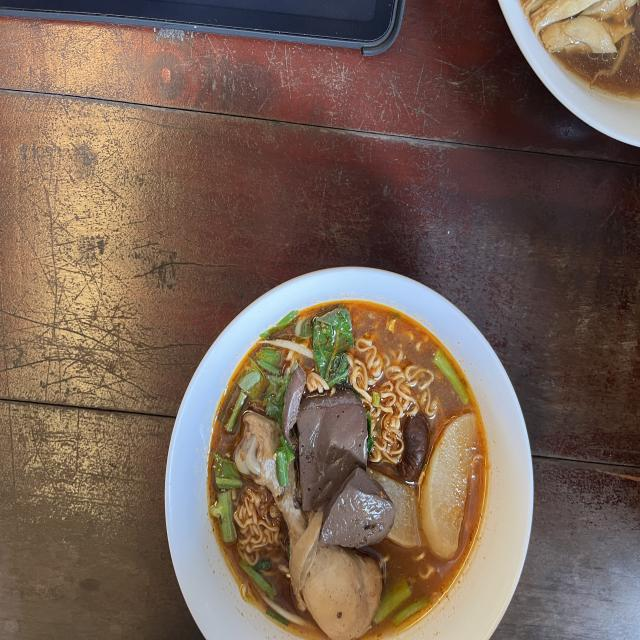boiled_chicken_blood_jelly: (298, 393, 370, 504), (321, 471, 390, 547)
chicken_drumstick: (233, 414, 382, 637)
daikon_radish: (422, 412, 478, 551), (386, 478, 421, 549)
noodle: (202, 299, 490, 640)
